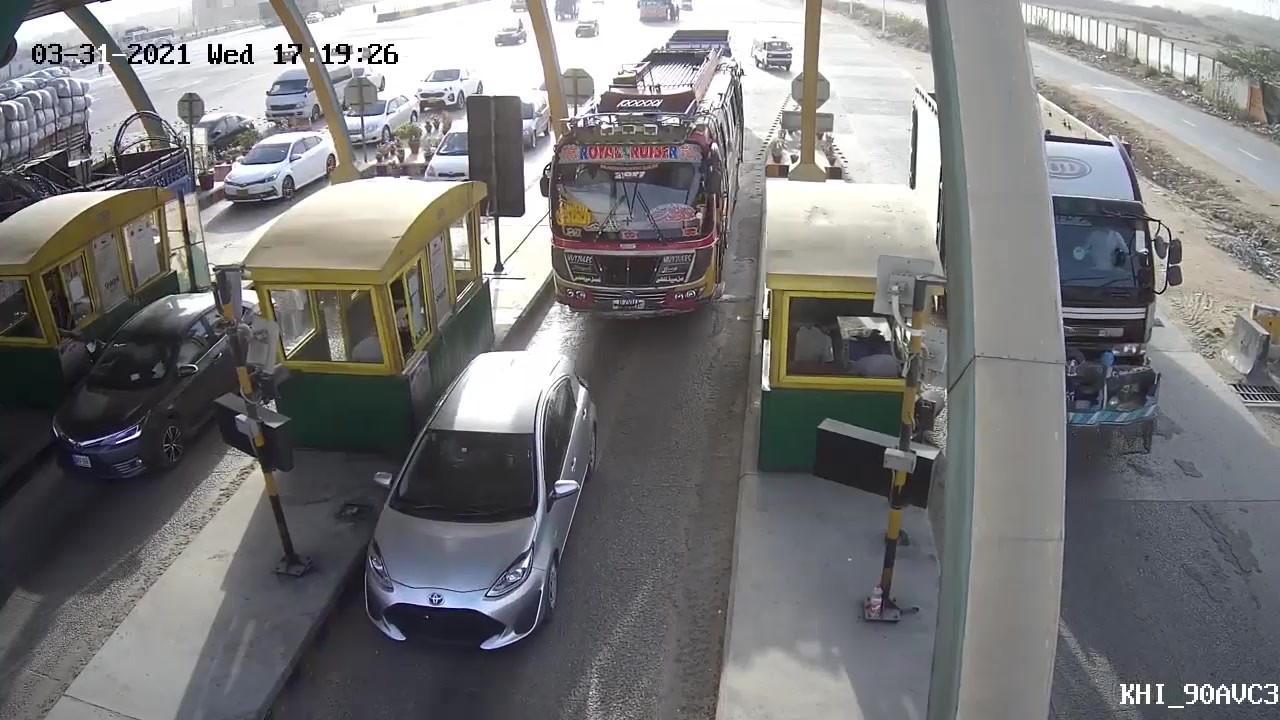F1: (333, 347, 607, 653)
F4: (530, 26, 759, 327)
